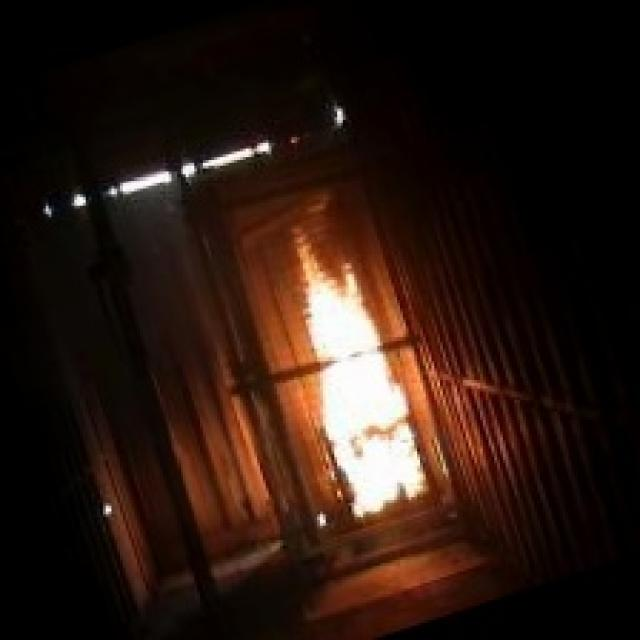fire: (247, 187, 462, 544)
